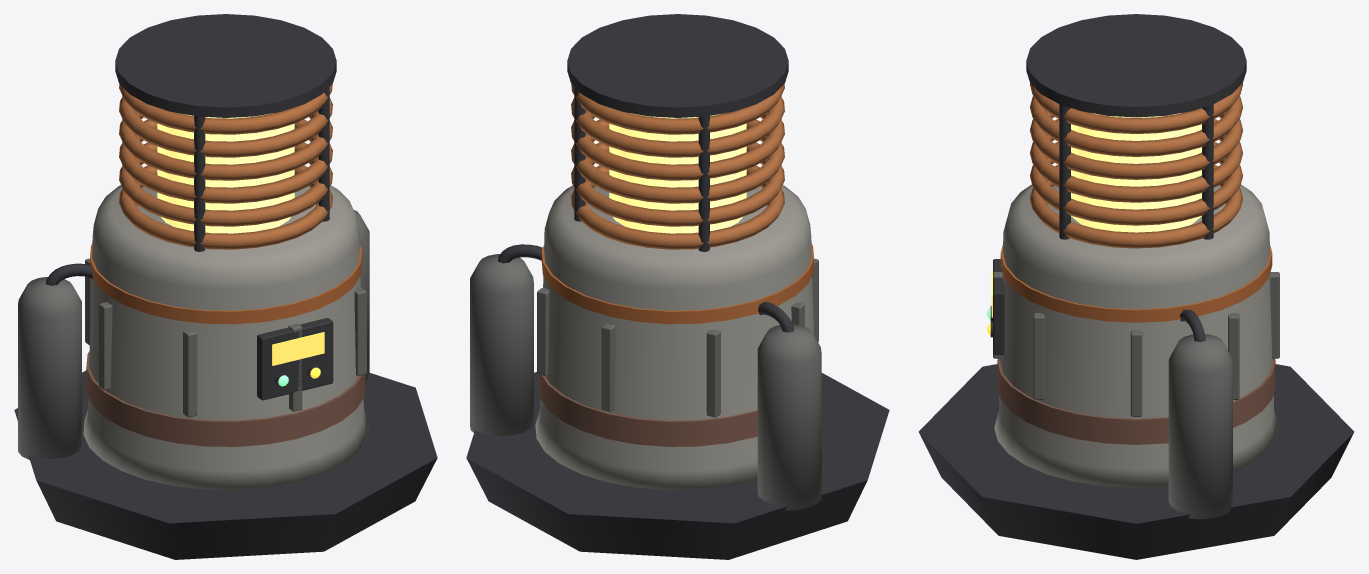
File: station_R.glb
3 views of the same model, side by side, from view 1: azimuth 30°, elevation 25°; view 2: azimuth 150°, elevation 25°; view 3: azimuth 270°, elevation 25° (orthographic).
Visible parts, largest first — view 1: body, station_R_graph, anim_coil_copper, anim_coil_graph, station_R_greyd, band, core, ring_top, panel_screen; view 2: body, station_R_graph, station_R_greyd, anim_coil_copper, anim_coil_graph, band, core, ring_top; view 3: body, station_R_graph, anim_coil_copper, anim_coil_graph, station_R_greyd, band, core, ring_top.
Part boxes in pixels (left/top/right/bottom): body: left=83, top=185, right=368, bottom=489; station_R_graph: left=14, top=263, right=437, bottom=559; anim_coil_copper: left=119, top=84, right=332, bottom=249; anim_coil_graph: left=115, top=14, right=336, bottom=251; station_R_greyd: left=18, top=210, right=369, bottom=459; band: left=86, top=351, right=365, bottom=446; core: left=157, top=113, right=294, bottom=233; ring_top: left=89, top=244, right=362, bottom=324; panel_screen: left=272, top=332, right=324, bottom=365; body: left=535, top=185, right=813, bottom=489; station_R_graph: left=466, top=244, right=889, bottom=559; station_R_greyd: left=470, top=254, right=821, bottom=510; anim_coil_copper: left=571, top=84, right=784, bottom=249; anim_coil_graph: left=567, top=14, right=788, bottom=251; band: left=538, top=374, right=757, bottom=446; core: left=609, top=113, right=746, bottom=233; ring_top: left=541, top=244, right=814, bottom=324; body: left=994, top=184, right=1278, bottom=487; station_R_graph: left=918, top=259, right=1354, bottom=559; anim_coil_copper: left=1030, top=83, right=1242, bottom=248; anim_coil_graph: left=1026, top=14, right=1246, bottom=239; station_R_greyd: left=993, top=272, right=1279, bottom=519; band: left=997, top=358, right=1275, bottom=444; core: left=1071, top=113, right=1201, bottom=232; ring_top: left=1000, top=245, right=1272, bottom=322.
Bounding box in the file's own units: 1.9 × 2.01 × 1.9.
